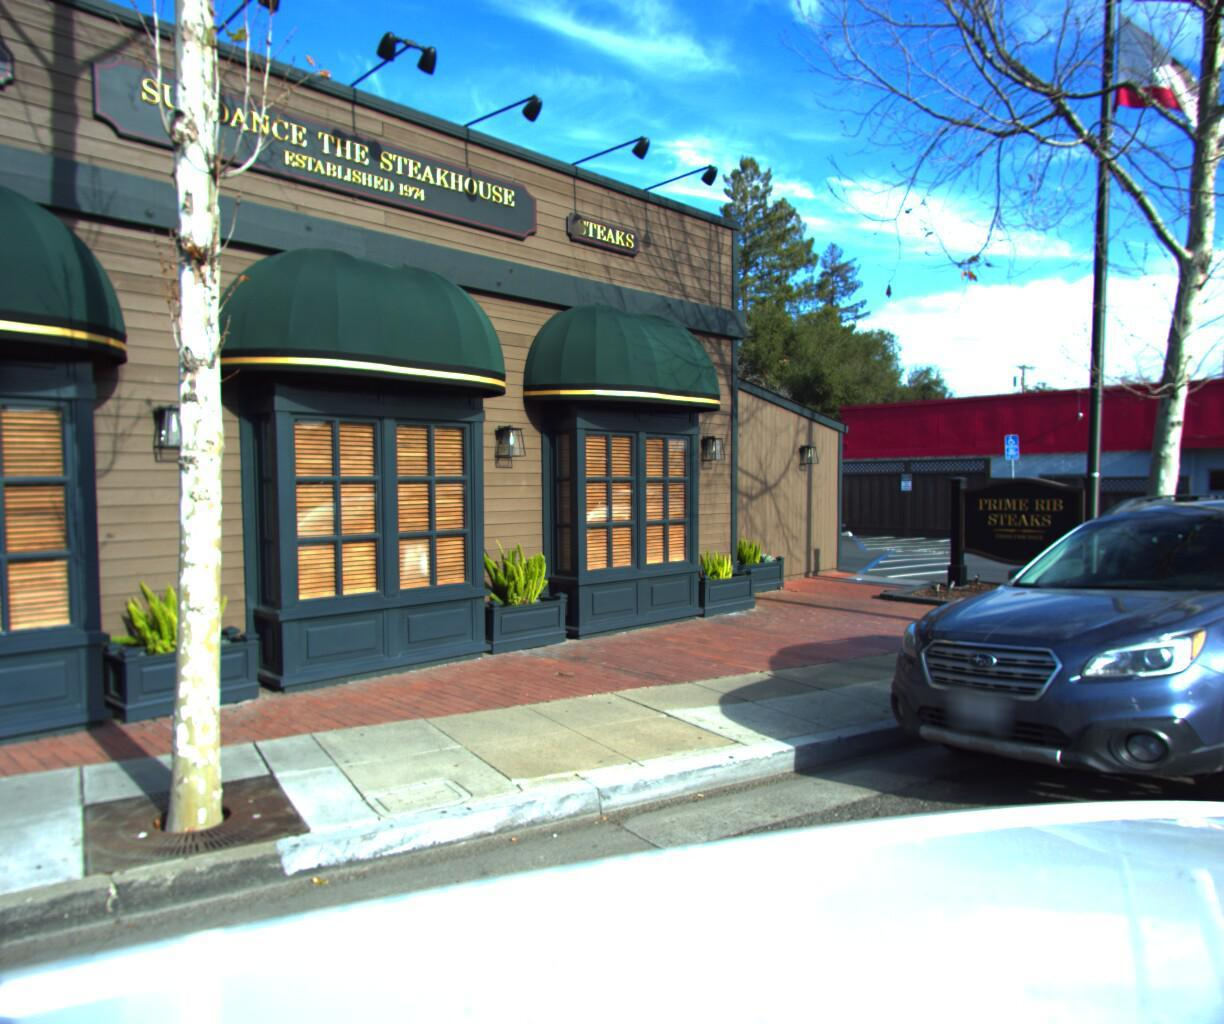car: (828, 468, 1224, 920)
